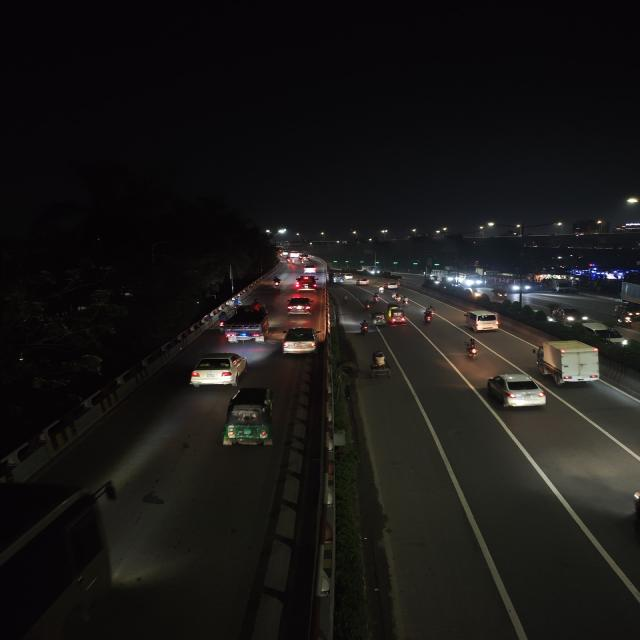bus: (486, 274, 533, 294), (459, 273, 481, 286), (329, 271, 346, 285)
car: (483, 371, 547, 413), (187, 351, 249, 390), (280, 326, 322, 356), (461, 308, 501, 332), (551, 305, 589, 326), (284, 296, 315, 316), (292, 276, 319, 292), (301, 263, 320, 275), (380, 282, 401, 292), (356, 276, 370, 286)
cng: (220, 385, 278, 450), (611, 299, 639, 327), (387, 304, 408, 326), (370, 311, 384, 325)
motorcycle: (461, 338, 482, 362), (421, 306, 438, 326), (269, 276, 284, 291), (358, 320, 370, 336), (362, 298, 374, 312), (373, 290, 383, 302), (374, 287, 384, 297)
pickup_van: (219, 297, 272, 344)
rickshaw: (365, 350, 392, 380)
truck: (531, 338, 603, 388), (552, 282, 576, 294)
